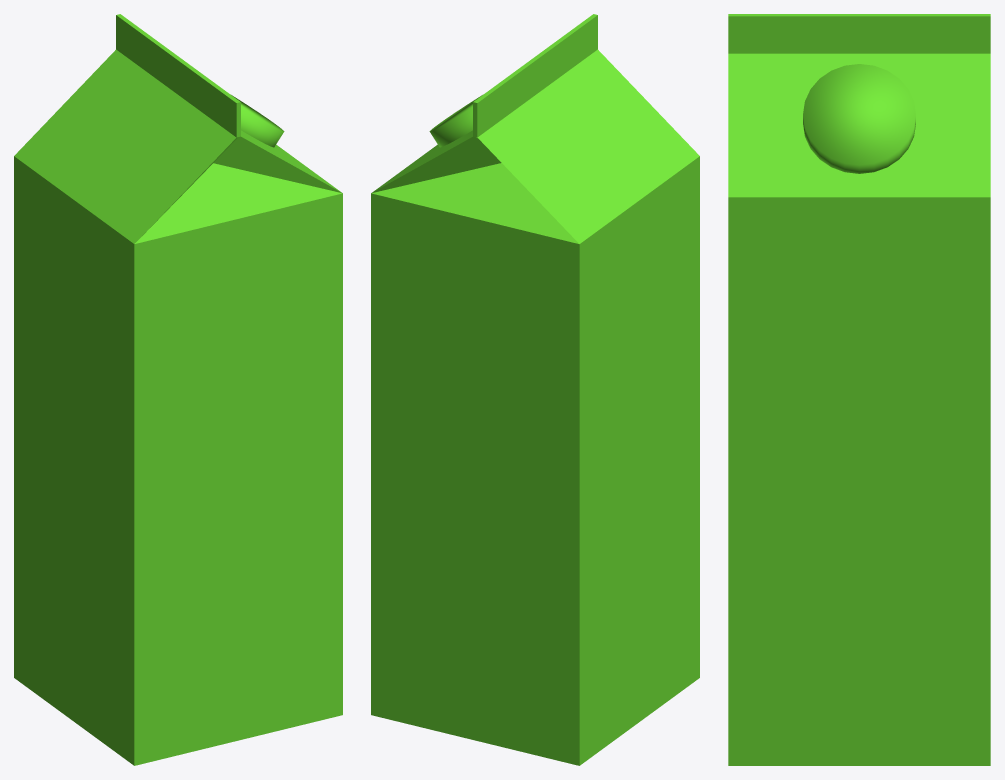
Rendered from CartoneLatteSoia_1L.fbx.
3 views of the same model, side by side, from view 1: azimuth 30°, elevation 25°; view 2: azimuth 150°, elevation 25°; view 3: azimuth 270°, elevation 25° (orthographic). The views are drawn at different scales.
Visible parts, largest first — view 1: CartoneLatte.004; view 2: CartoneLatte.004; view 3: CartoneLatte.004.
Part boxes in pixels (box(x1,y1,x2,y2)): CartoneLatte.004: box(14, 14, 342, 765); CartoneLatte.004: box(371, 14, 699, 765); CartoneLatte.004: box(728, 14, 990, 765).
Size of the model in its own units: 414 by 1211 by 414.
